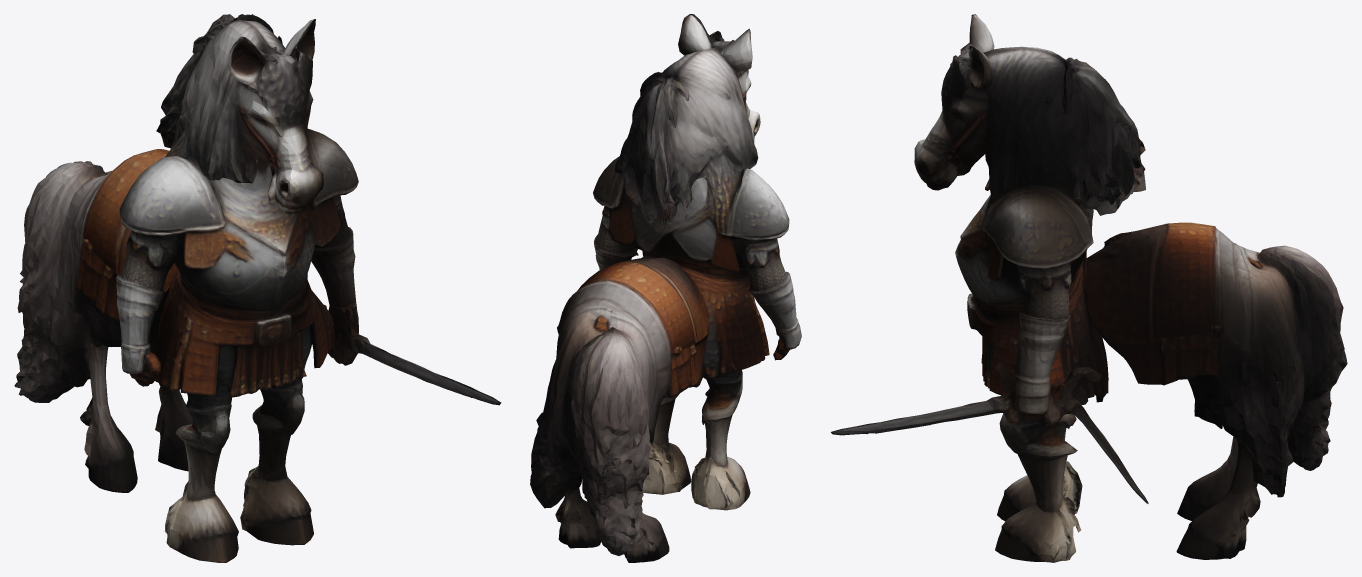
File: markop.glb
The picture shows the model from 3 angles, left to right: view 1: azimuth 30°, elevation 25°; view 2: azimuth 150°, elevation 25°; view 3: azimuth 270°, elevation 25°; orthographic projection. The views are drawn at different scales.
Parts seen in each view (by area): view 1: world; view 2: world; view 3: world.
Part boxes in pixels (x1,y1,x2,y2): world: (14,14,501,562); world: (530,14,801,562); world: (831,14,1347,562).
Size of the model in its own units: 0.531 by 1 by 0.9332.
1 material, 1 textured.
